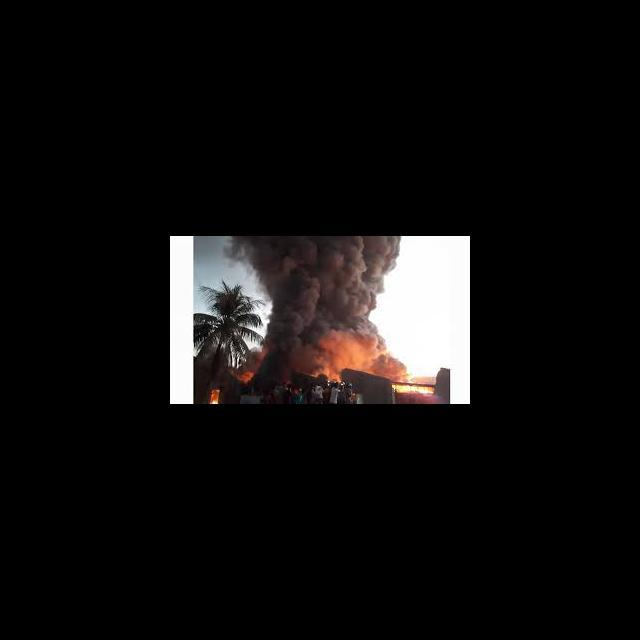Fire: (392, 385, 436, 393), (207, 389, 221, 403)
Smoke: (234, 236, 405, 338)
